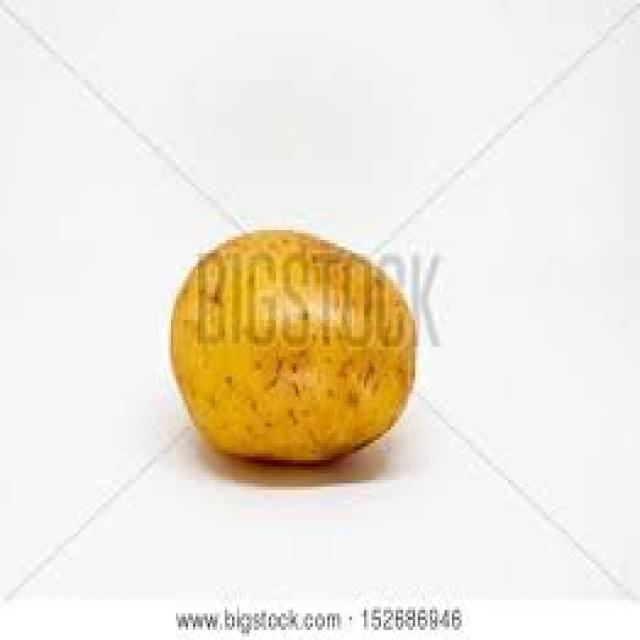organic waste: (166, 230, 413, 460)
